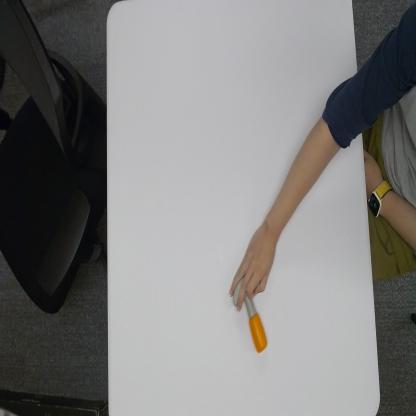Arm: (266, 78, 359, 242)
Hammer: (232, 276, 268, 354)
Hand: (230, 224, 274, 313)
